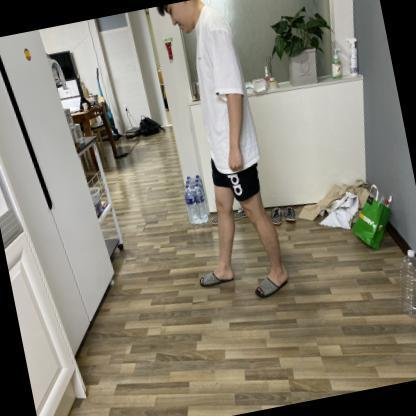no_safety-shoe: (251, 260, 298, 307), (195, 256, 239, 296)
